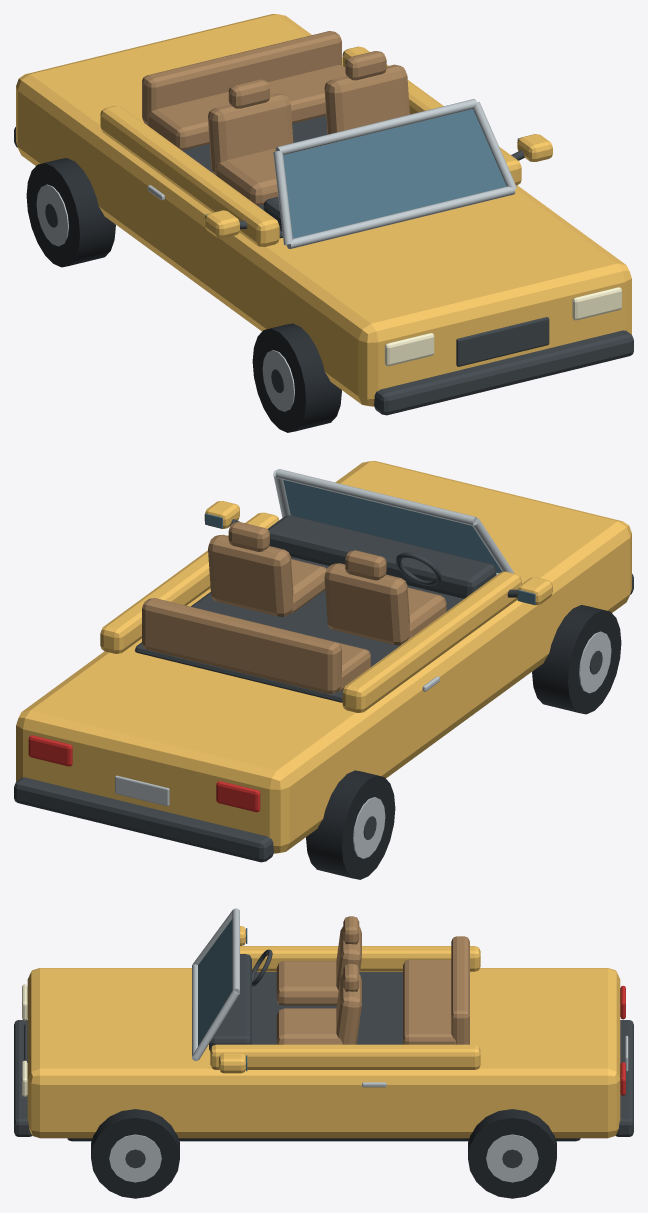
The model's file is car_convertible.glb.
The picture shows the model from 3 angles, top to bottom: view 1: azimuth 30°, elevation 25°; view 2: azimuth 150°, elevation 25°; view 3: azimuth 270°, elevation 25°; orthographic projection. The views are drawn at different scales.
Parts seen in each view (by area): view 1: Main body, Open-top windshield glass, Rear seat back, Front bumper, Cockpit side rail, Left front wheel tire, Left rear wheel tire, Rear seat cushion, Front seat back, Front seat back.001, Front grille, Front seat cushion (+14 smaller); view 2: Main body, Rear seat back, Dashboard, Rear bumper, Open-top windshield glass, Cockpit side rail, Left rear wheel tire, Left front wheel tire, Front seat back, Front seat back.001, Open cockpit floor, Cockpit side rail.001 (+15 smaller); view 3: Main body, Cockpit side rail.001, Open cockpit floor, Right front wheel tire, Right rear wheel tire, Rear seat cushion, Cockpit side rail, Front seat cushion, Open-top windshield glass, Front seat cushion.001, Rear seat back, Dashboard (+13 smaller).
Part boxes in pixels (box(x1,y1,x2,y2)): Main body: box(16, 14, 631, 406); Open-top windshield glass: box(283, 109, 506, 238); Rear seat back: box(142, 31, 341, 125); Front bumper: box(374, 330, 633, 415); Cockpit side rail: box(100, 105, 279, 246); Left front wheel tire: box(252, 323, 341, 432); Left rear wheel tire: box(26, 158, 115, 267); Rear seat cushion: box(148, 65, 346, 150); Front seat back: box(208, 93, 293, 174); Front seat back.001: box(324, 64, 409, 134); Front grille: box(456, 317, 549, 366); Front seat cushion: box(215, 148, 278, 205); Main body: box(16, 461, 631, 853); Rear seat back: box(142, 598, 341, 694); Dashboard: box(267, 515, 496, 598); Rear bumper: box(14, 777, 273, 862); Open-top windshield glass: box(283, 480, 502, 573); Cockpit side rail: box(342, 571, 521, 712); Left rear wheel tire: box(306, 770, 395, 879); Left front wheel tire: box(532, 605, 621, 714); Front seat back: box(324, 563, 409, 645); Front seat back.001: box(208, 534, 293, 616); Open cockpit floor: box(135, 556, 463, 702); Cockpit side rail.001: box(100, 512, 279, 653); Main body: box(27, 968, 620, 1138); Cockpit side rail.001: box(210, 1044, 480, 1069); Open cockpit floor: box(252, 972, 402, 1044); Right front wheel tire: box(91, 1109, 179, 1198); Right rear wheel tire: box(468, 1109, 556, 1198); Rear seat cushion: box(403, 959, 455, 1044); Cockpit side rail: box(240, 946, 480, 971); Front seat cushion: box(276, 961, 338, 1005); Open-top windshield glass: box(198, 919, 232, 1045); Front seat cushion.001: box(276, 1008, 342, 1044); Rear seat back: box(451, 936, 469, 1044); Dashboard: box(209, 954, 251, 1051).
Size of the model in its own units: 2.25 by 1.45 by 4.31.
